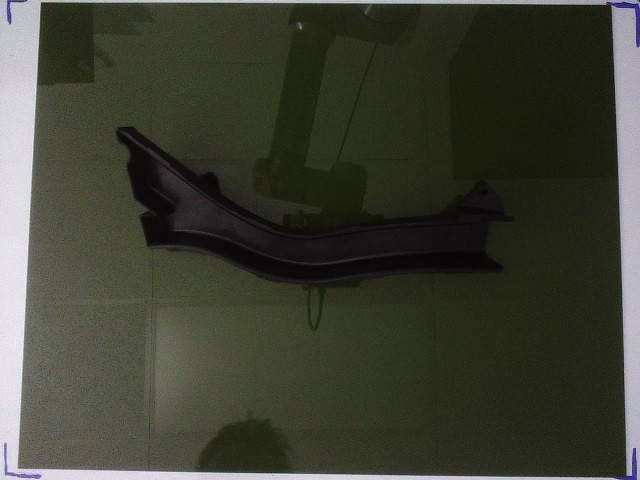887_A-Under: (114, 126, 514, 283)
